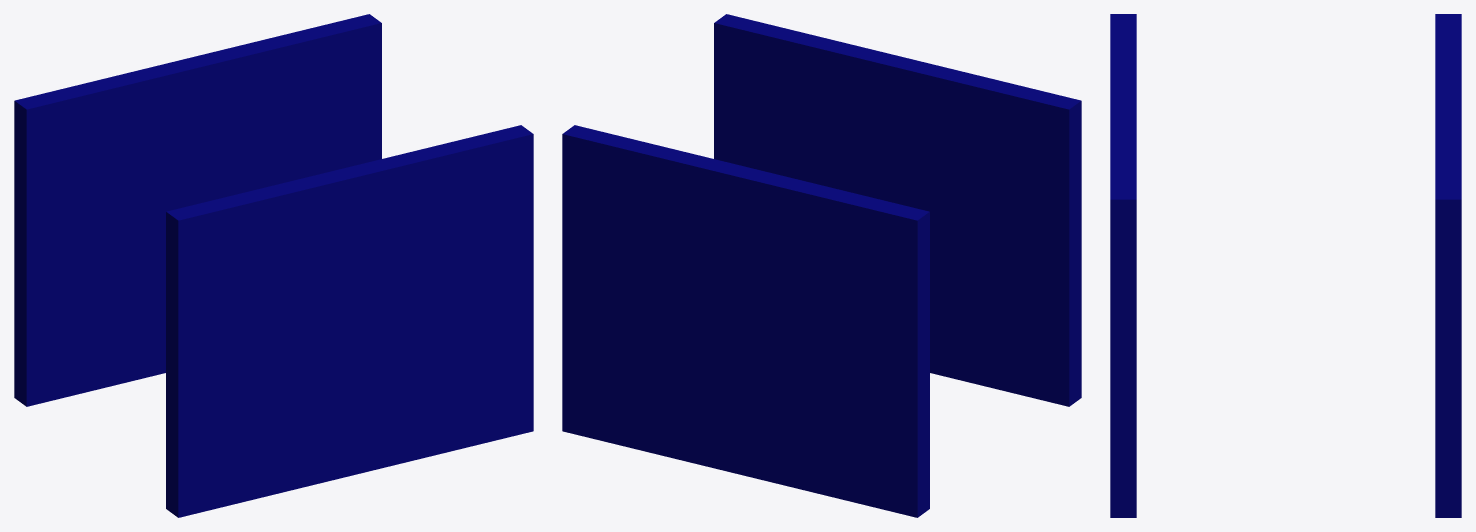
Rendered from Wall01.FBX.
3 views of the same model, side by side, from view 1: azimuth 30°, elevation 25°; view 2: azimuth 150°, elevation 25°; view 3: azimuth 270°, elevation 25° (orthographic). The views are drawn at different scales.
Parts seen in each view (by area): view 1: Wall01; view 2: Wall01; view 3: Wall01.
Part boxes in pixels (x1,y1,x2,y2): Wall01: (14,14,533,517); Wall01: (562,14,1081,517); Wall01: (1110,14,1461,517).
Size of the model in its own units: 100 by 80 by 80.
Materials: 1 (1 with a texture image).
